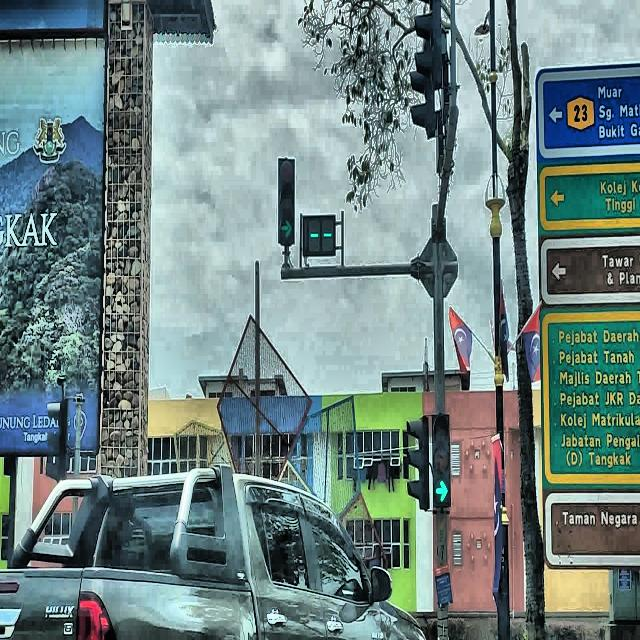green: (432, 414, 451, 507), (277, 160, 295, 243)
